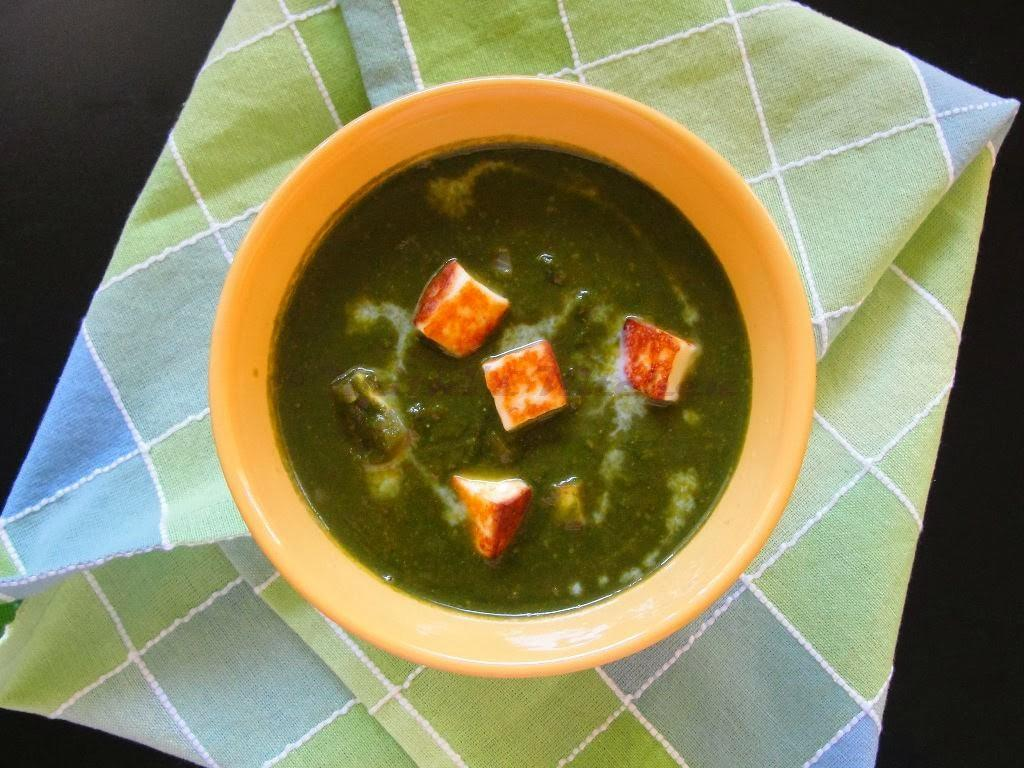PalakPaneer: (271, 136, 760, 614)
